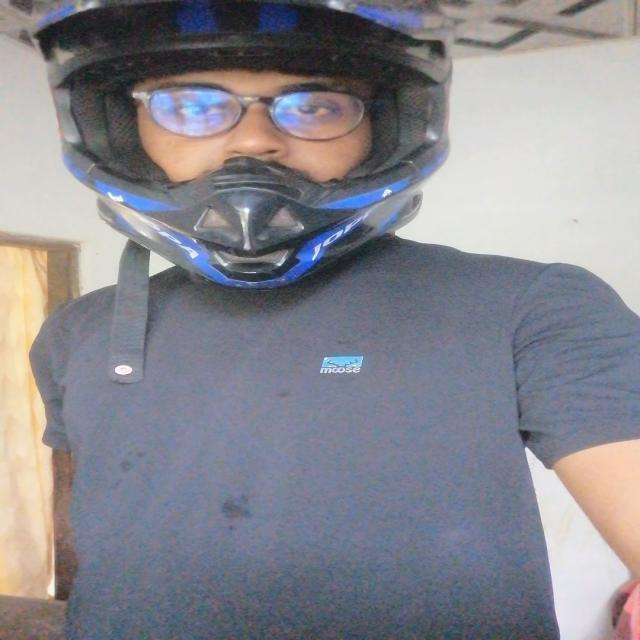Helmet_Wearer: (35, 0, 497, 324)
